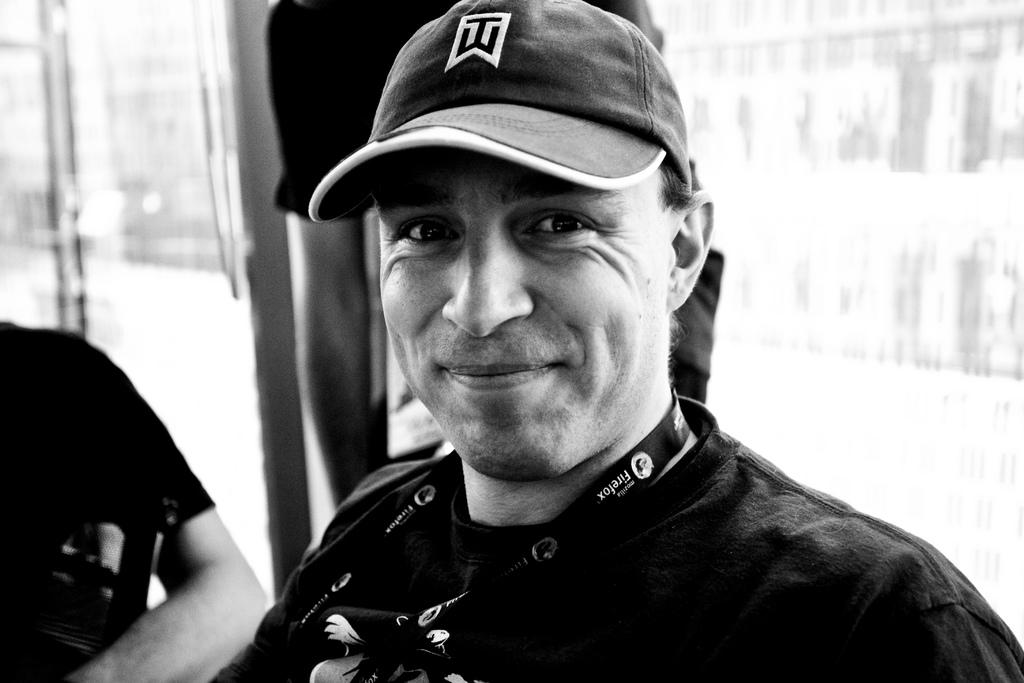Hat: (308, 0, 692, 225)
